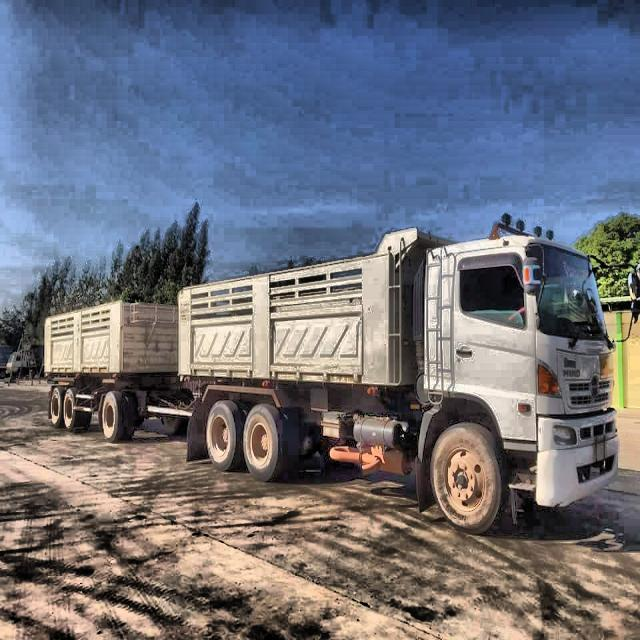trailer: (25, 215, 628, 552)
